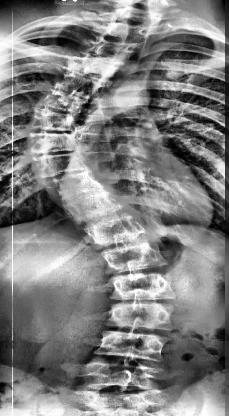Vertebrae: (80, 358, 156, 394), (94, 329, 170, 363), (62, 186, 124, 226), (101, 240, 170, 274), (84, 210, 146, 247), (105, 300, 172, 334), (108, 270, 176, 302), (43, 167, 104, 201), (66, 52, 134, 80), (48, 69, 104, 103), (32, 150, 88, 180), (83, 37, 146, 63), (26, 106, 82, 134), (25, 128, 81, 156), (35, 88, 90, 116), (92, 20, 154, 44)
